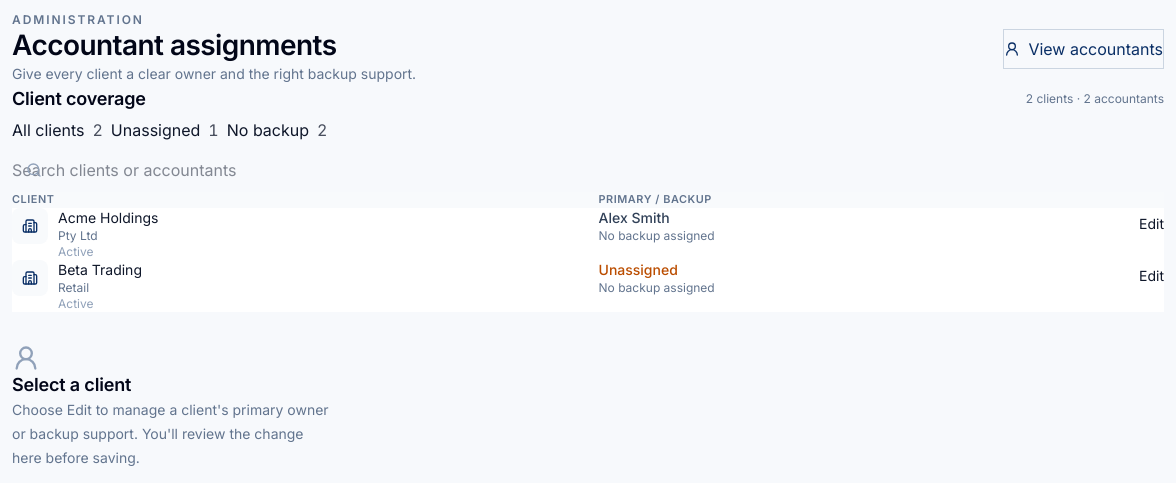
assignment workspace › filters coverage without changing any assignments
Expected: the button "Acme Holdings" is shown, top-left (58, 208), bottom-right (158, 228)
Click the button "Unassigned 1".
click(165, 130)  # box top-left (111, 112), bottom-right (219, 148)
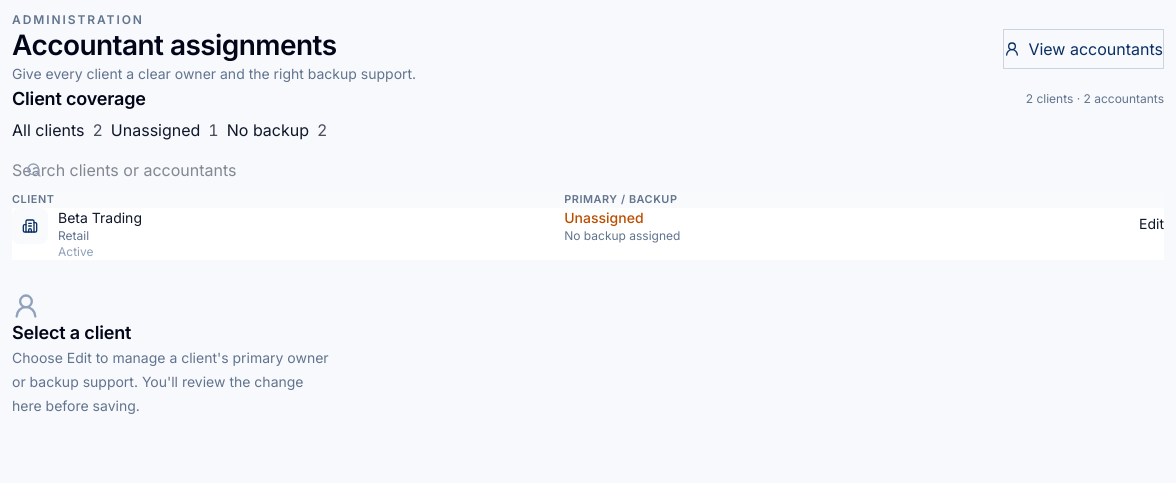
Expected: the button "Beta Trading" is shown, top-left (58, 208), bottom-right (142, 228)
Expected: the button "Acme Holdings" is gone
Type "missing" into the field labelled "Search clients or accountants".
click(588, 170); type("missing")  # box top-left (12, 148), bottom-right (1164, 192)
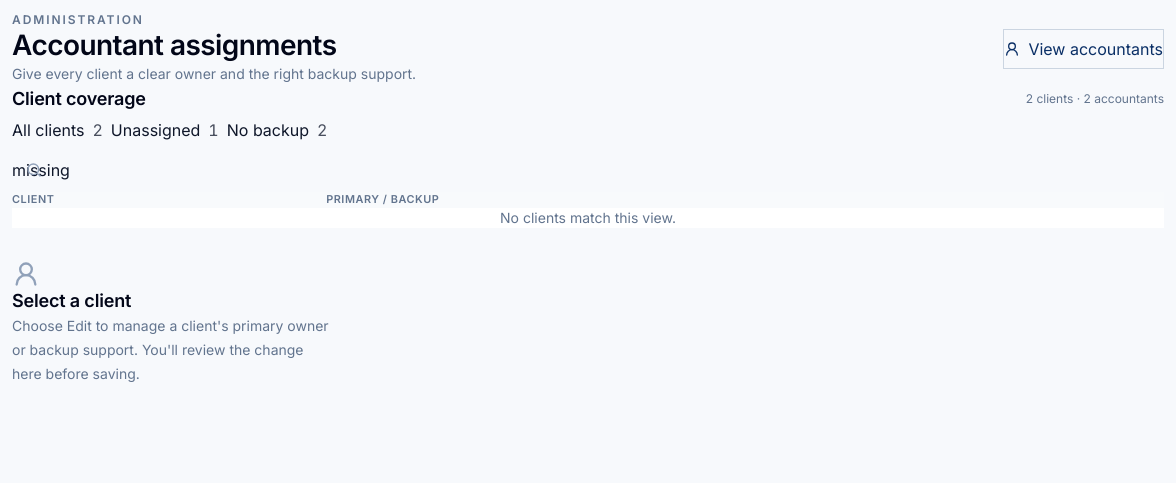
Expected: the text "No clients match this view." is shown, top-left (12, 208), bottom-right (1164, 228)
